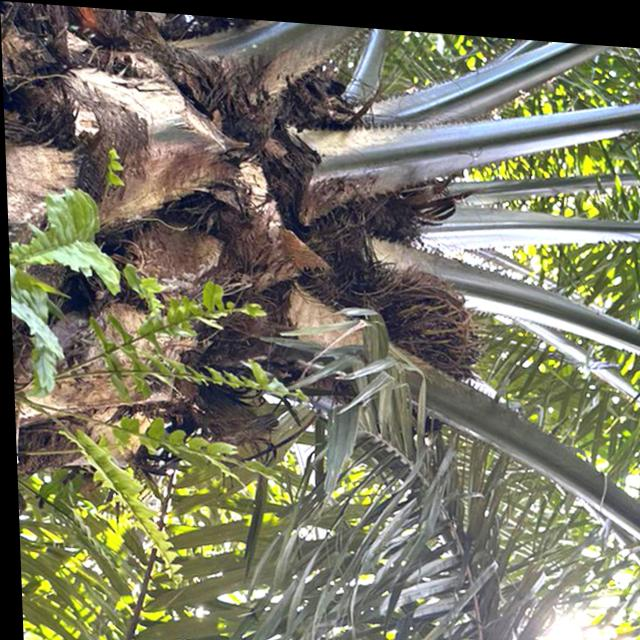unripe: (374, 255, 489, 380)
